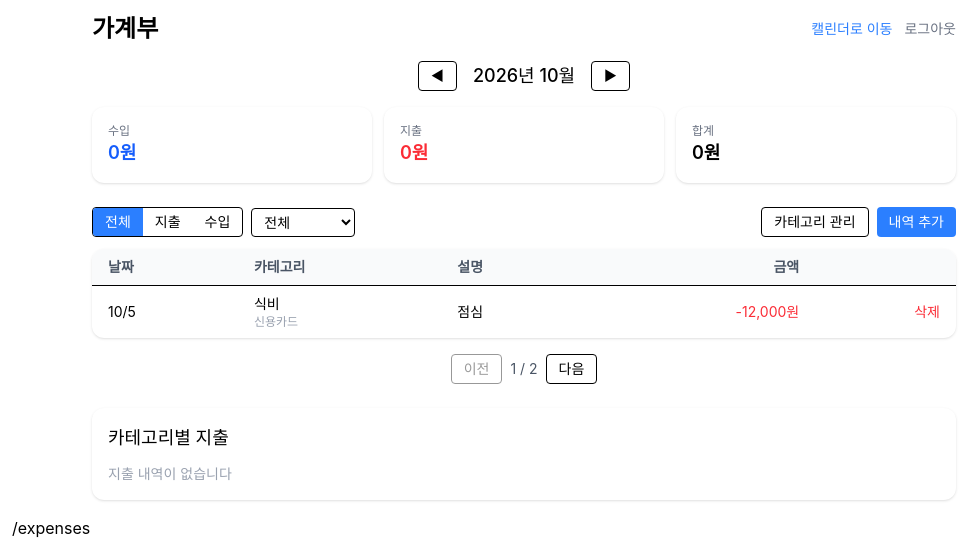
ExpensesPage › 필터/월 이동/페이지 › changePage_whenNextAndPrevClicked_requestsNextThenPreviousPage
The width and height of the screenshot is (973, 555).
Expected: the text "점심" is shown, [441,286,582,338]
Click the button "다음" at [572, 369], box [546,354,597,384]
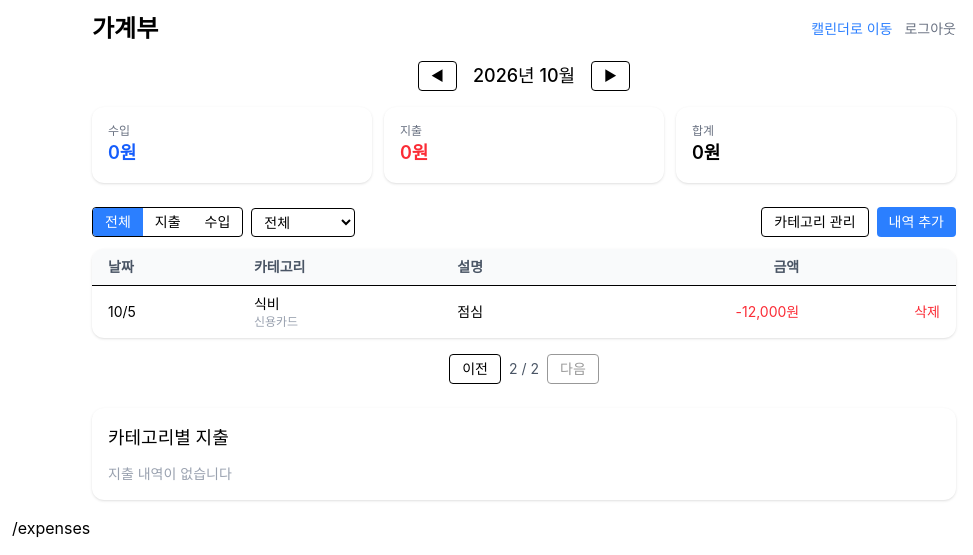
Now the text "2 / 2" is shown, box [509,359,539,379]
Now the button "다음" is disabled, box [547,354,599,384]
Click the button "이전" at [475, 369], box [449,354,501,384]
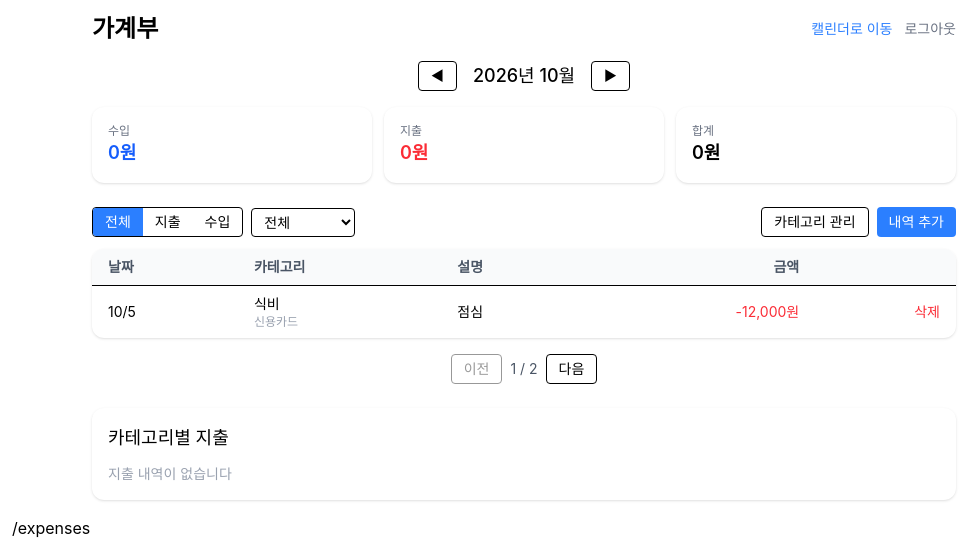
Now the text "1 / 2" is shown, box [510,359,538,379]
